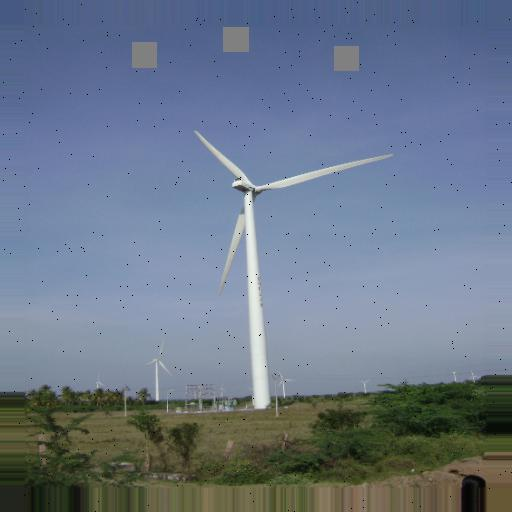wind turbine: (193, 129, 394, 411), (146, 339, 175, 403)
